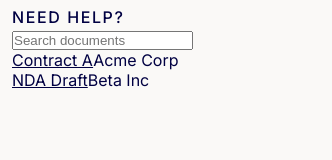
UserDashboardContainer › filters documents when searching
This screenshot has width=332, height=160.
Expected: the link "Contract A" is shown, left=12, top=50, right=93, bottom=70
In the field with placeholder "Search documents": (102, 40) left=12, top=31, right=193, bottom=50, type "NDA"
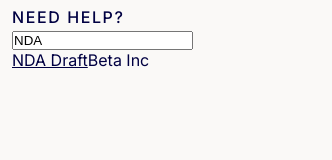
Expected: the link "NDA Draft" is shown, left=12, top=50, right=88, bottom=70
Expected: the link "Contract A" is gone
